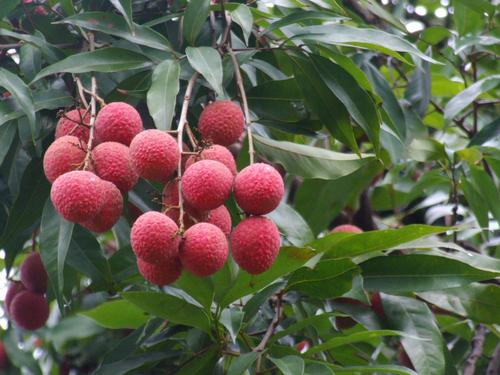litchi: (135, 106, 280, 280), (45, 101, 139, 229)
stem: (172, 72, 199, 135), (85, 30, 99, 112)
